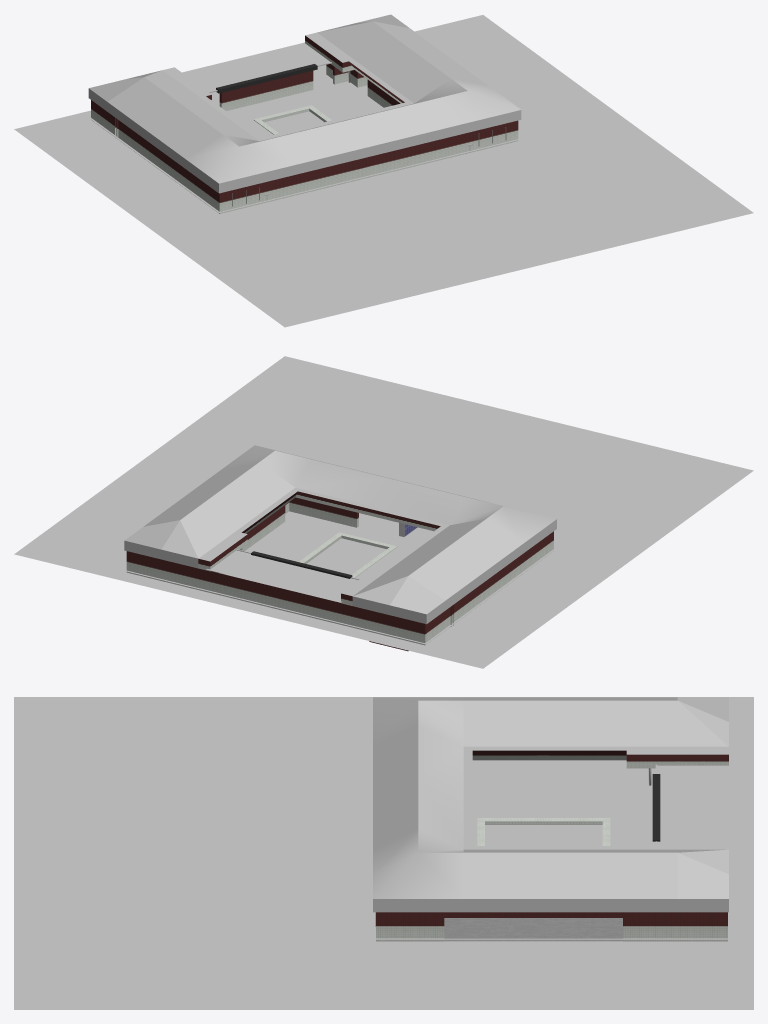
File: PoolPartyMap.fbx
3 views of the same model, one above another, from view 1: azimuth 30°, elevation 25°; view 2: azimuth 150°, elevation 25°; view 3: azimuth 270°, elevation 25° (orthographic). The views are drawn at different scales.
Visible parts, largest first — view 1: Modelsheet, Roof_Bottom, Wall-OuterRing, Roof_Top, Floor, Plane001, Wall-North, Roof_Side, Roof_Bar, Pool, Wall-NorthEast; view 2: Modelsheet, Roof_Bottom, Roof_Top, Wall-OuterRing, Floor, Plane001, Roof_Side, Wall-SouthEast, Pool, Wall-East; view 3: Modelsheet, Roof_Bottom, Roof_Top, Floor, Wall-OuterRing, Plane001, Lockers-East, Roof_Side, Pool, Roof_Bar.
Boxes of the visible parts, bbox=[...] form: Modelsheet: bbox=[14, 15, 753, 327]; Roof_Bottom: bbox=[88, 14, 521, 193]; Wall-OuterRing: bbox=[91, 100, 518, 213]; Roof_Top: bbox=[127, 21, 467, 146]; Floor: bbox=[88, 65, 520, 212]; Plane001: bbox=[182, 42, 330, 91]; Wall-North: bbox=[219, 70, 313, 110]; Roof_Side: bbox=[206, 35, 404, 103]; Roof_Bar: bbox=[216, 64, 317, 93]; Pool: bbox=[253, 105, 331, 134]; Wall-NorthEast: bbox=[326, 64, 367, 87]; Modelsheet: bbox=[14, 356, 753, 668]; Roof_Bottom: bbox=[124, 445, 556, 624]; Roof_Top: bbox=[161, 450, 502, 605]; Wall-OuterRing: bbox=[126, 531, 553, 645]; Floor: bbox=[124, 511, 556, 644]; Plane001: bbox=[206, 550, 358, 602]; Roof_Side: bbox=[198, 491, 440, 605]; Wall-SouthEast: bbox=[285, 497, 358, 527]; Pool: bbox=[299, 532, 397, 577]; Wall-East: bbox=[240, 505, 285, 550]; Modelsheet: bbox=[14, 697, 753, 1009]; Roof_Bottom: bbox=[373, 697, 728, 912]; Roof_Top: bbox=[418, 700, 728, 873]; Floor: bbox=[373, 738, 730, 939]; Wall-OuterRing: bbox=[376, 912, 727, 941]; Plane001: bbox=[657, 764, 731, 854]; Lockers-East: bbox=[444, 918, 622, 941]; Roof_Side: bbox=[472, 750, 728, 768]; Pool: bbox=[477, 818, 610, 845]; Roof_Bar: bbox=[652, 774, 660, 841].
Size of the model in its own units: 1270 by 180 by 1270.
